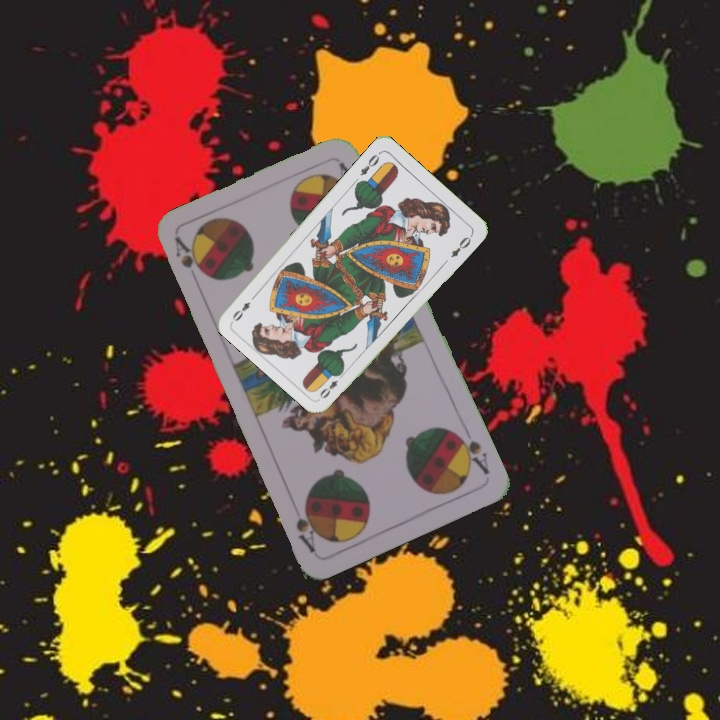EO: (315, 367, 347, 401), (356, 148, 383, 179)
SA: (450, 422, 492, 478), (171, 233, 202, 274)
